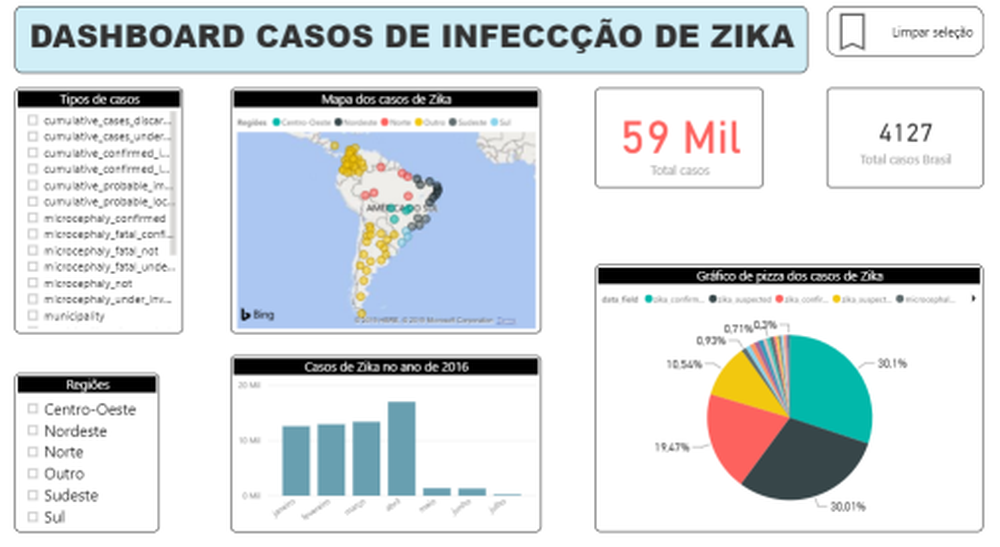

Layout of this report page (visuals, bound fields, positions):
{"tool":"powerbi","page":{"name":"Página 1","canvas":[1280,720],"ordinal":0},"visuals":[{"type":"slicer","title":"Tipos de casos","fields":{"Values":["zika.data_field"]},"box":[11.5,118.6,218,317.5],"z":0},{"type":"textbox","box":[11.5,12.7,1026.3,86.7],"z":9},{"type":"card","fields":{"Values":["zika.Total casos Brasil"]},"box":[1062,118.6,202.7,128.8],"z":1000},{"type":"slicer","title":"Regiões","fields":{"Values":["zika.region (grupos)"]},"box":[11.5,487,187.4,205.3],"z":2000},{"type":"clusteredColumnChart","title":"Casos de Zika no ano de 2016","fields":{"Category":["zika.report_date.Variation.Hierarquia de datas.Ano","zika.report_date.Variation.Hierarquia de datas.Trimestre","zika.report_date.Variation.Hierarquia de datas.Mês","zika.report_date.Variation.Hierarquia de datas.Dia"],"Y":["CountNonNull(zika.data_field)"]},"box":[290.7,464.1,401.6,228.2],"z":3000},{"type":"pieChart","title":"Gráfico de pizza dos casos de Zika","fields":{"Category":["zika.data_field"],"Y":["CountNonNull(zika.Regiões)"]},"box":[762.4,346.8,502.3,345.5],"z":4000},{"type":"card","title":"Total de casos em 2016","fields":{"Values":["zika.Total casos"]},"box":[762.4,118.6,218,128.8],"z":5000},{"type":"map","title":"Mapa dos casos de Zika","fields":{"Series":["zika.region (grupos)"],"Category":["zika.region"]},"box":[290.7,118.6,401.6,317.5],"z":6000},{"type":"actionButton","box":[1062,12.7,202.7,65],"z":7000}]}

Visuals, with their boxes in screenshot pixels (x1, y1, x2, y2), scaled from the page's 1280x720 canvas onto the 1000x547 screenshot:
"Tipos de casos" slicer: (x1=9, y1=90, x2=179, y2=331)
textbox: (x1=9, y1=10, x2=811, y2=76)
card - zika.Total casos Brasil: (x1=830, y1=90, x2=988, y2=188)
"Regiões" slicer: (x1=9, y1=370, x2=155, y2=526)
"Casos de Zika no ano de 2016" clusteredColumnChart: (x1=227, y1=353, x2=541, y2=526)
"Gráfico de pizza dos casos de Zika" pieChart: (x1=596, y1=263, x2=988, y2=526)
"Total de casos em 2016" card: (x1=596, y1=90, x2=766, y2=188)
"Mapa dos casos de Zika" map: (x1=227, y1=90, x2=541, y2=331)
actionButton: (x1=830, y1=10, x2=988, y2=59)
